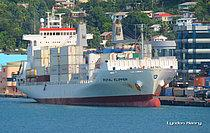Ship: (10, 8, 184, 107)
